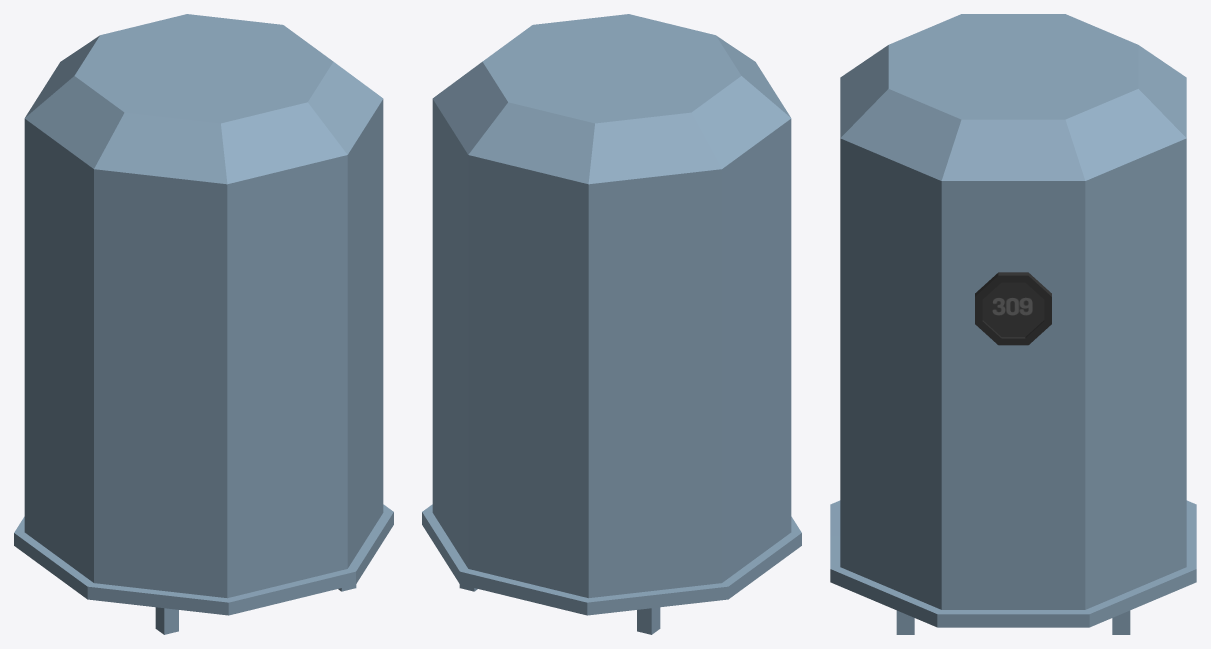
The model's file is Big_flask_2.fbx.
3 renders of one model, left to right at view 1: azimuth 30°, elevation 25°; view 2: azimuth 150°, elevation 25°; view 3: azimuth 270°, elevation 25°, orthographic. The views are drawn at different scales.
Visible parts, largest first — view 1: Cube.001; view 2: Cube.001; view 3: Cube.001.
Boxes of the visible parts, x1,y1,x2,y2 form: Cube.001: (14, 14, 393, 634); Cube.001: (422, 14, 801, 634); Cube.001: (830, 14, 1196, 634).
Bounding box in the file's own units: 123 × 192 × 123.
